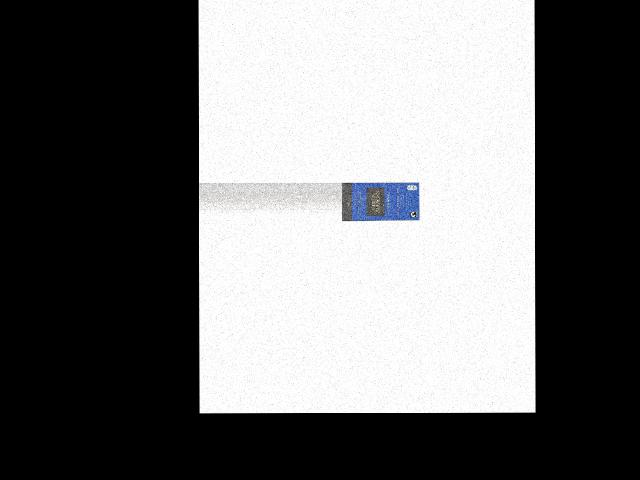chocolate: (341, 181, 418, 221)
